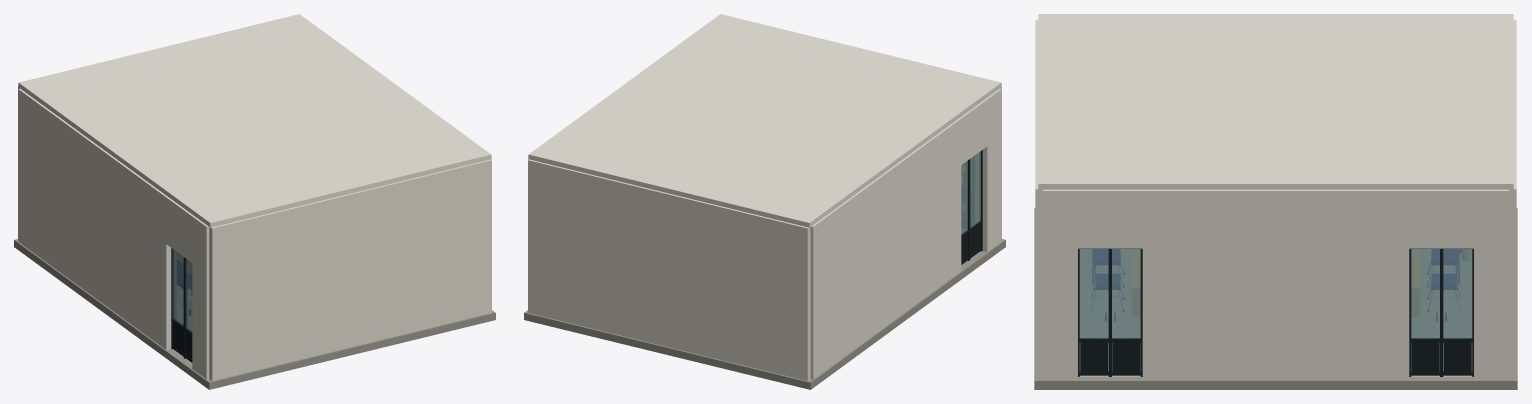
3 views of the same model, side by side, from view 1: azimuth 30°, elevation 25°; view 2: azimuth 150°, elevation 25°; view 3: azimuth 270°, elevation 25° (orthographic). The views are drawn at different scales.
Parts seen in each view (by area): view 1: ceiling_roof, wall_back_shell, wall_left_pier_0, wall_left_lintel, floor_slab, wall_left_pier_1, left_door0_glass; view 2: ceiling_roof, wall_front_shell, wall_left_pier_0, wall_left_lintel, floor_slab, wall_left_pier_1, left_door0_glass, back_achievement_display; view 3: ceiling_roof, wall_right_pier_1, wall_right_lintel, floor_tiles, floor_slab, right_door0_glass, right_door1_glass, wall_right_pier_0, wall_right_pier_2, wall_front_shell, wall_back_shell, right_door0_lower1 (+5 smaller).
Part boxes in pixels (x1,y1,x2,y2): ceiling_roof: (18, 14, 491, 227); wall_back_shell: (209, 159, 491, 380); wall_left_pier_0: (18, 136, 171, 349); wall_left_lintel: (18, 88, 209, 273); floor_slab: (14, 239, 495, 389); wall_left_pier_1: (192, 263, 209, 379); left_door0_glass: (172, 249, 192, 332); ceiling_roof: (528, 14, 1001, 227); wall_front_shell: (528, 159, 810, 380); wall_left_pier_0: (810, 165, 961, 379); wall_left_lintel: (810, 88, 1001, 273); floor_slab: (524, 239, 1005, 389); wall_left_pier_1: (982, 136, 1001, 251); left_door0_glass: (961, 151, 980, 234); back_achievement_display: (962, 156, 974, 228); ceiling_roof: (1038, 14, 1513, 189); wall_right_pier_1: (1142, 248, 1409, 379); wall_right_lintel: (1042, 189, 1509, 248); floor_tiles: (1079, 249, 1472, 376); floor_slab: (1034, 208, 1517, 389); right_door0_glass: (1411, 249, 1472, 371); right_door1_glass: (1079, 249, 1140, 371); wall_right_pier_0: (1474, 248, 1509, 379); wall_right_pier_2: (1042, 248, 1077, 379); wall_front_shell: (1509, 20, 1516, 378); wall_back_shell: (1035, 20, 1042, 378); right_door0_lower1: (1411, 342, 1439, 371).
Size of the model in its own units: 6.68 by 3.68 by 7.88.
121 materials, 121 textured.
